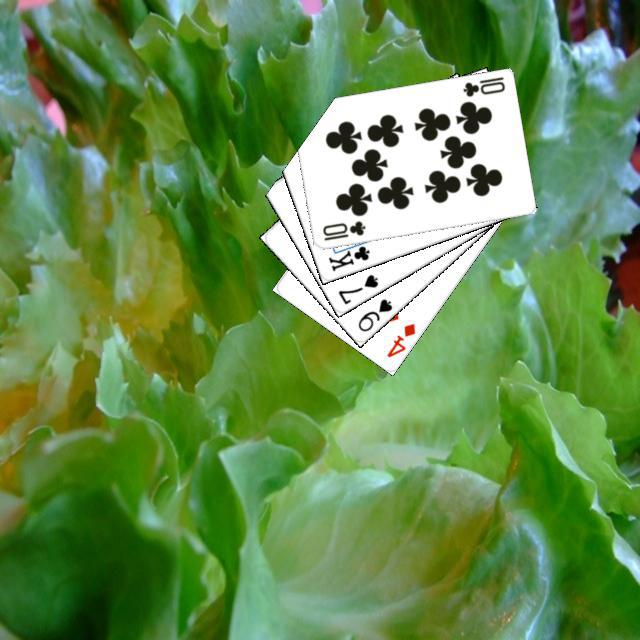10c: (318, 216, 367, 242), (458, 72, 507, 98)
4d: (382, 318, 417, 359)
7s: (333, 269, 380, 306)
9s: (353, 294, 394, 333)
Kc: (323, 235, 372, 273)
